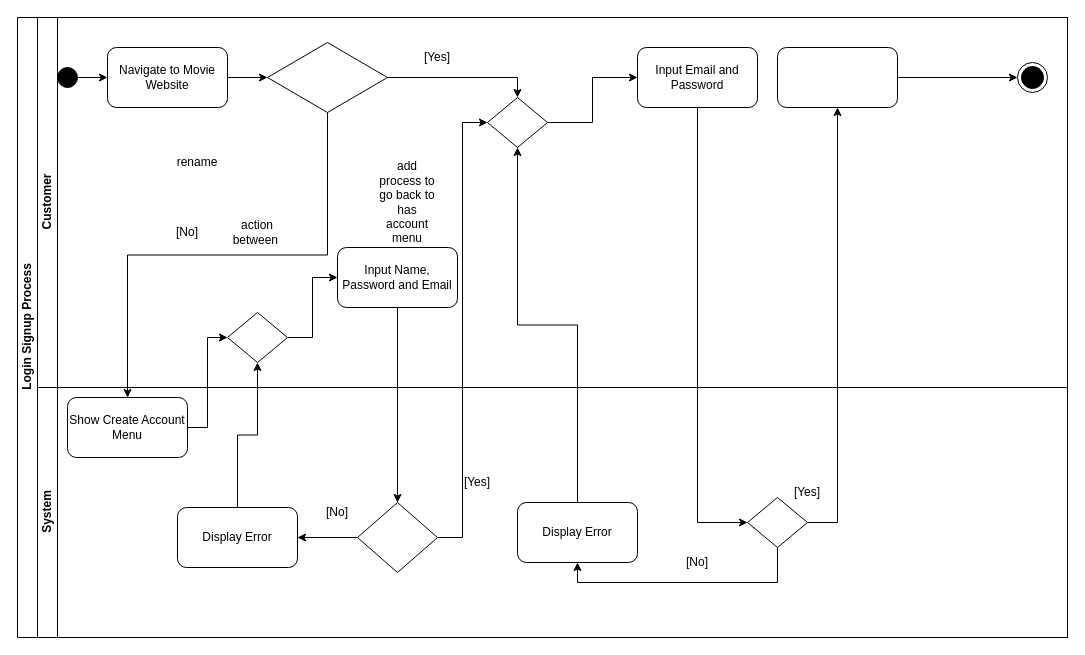
This 1085x655 diagram has some shape labels left out. Each missing label, with the centre of its shape:
Allowed Input?: point (397, 537)
Display Dashboard: point (837, 77)
Has Account?: point (327, 77)
Valid Input?: point (777, 522)
